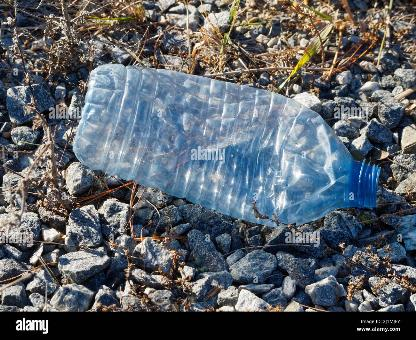Plastic Bottle: (71, 62, 381, 227)
